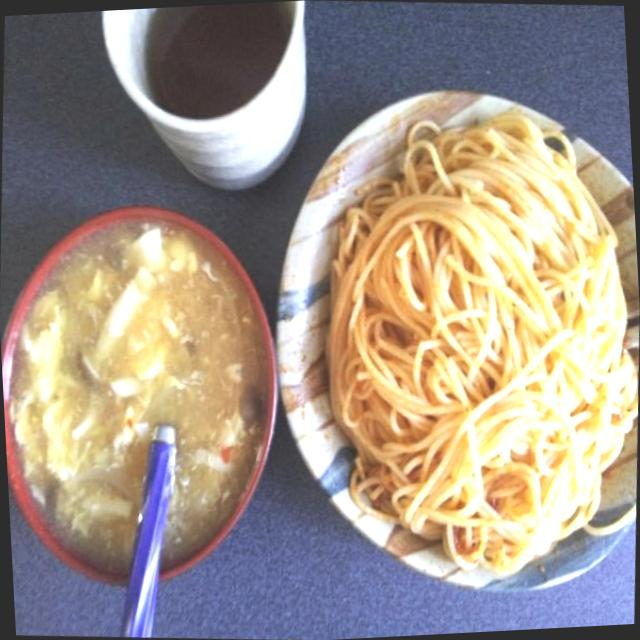Pasta: (300, 88, 640, 578)
